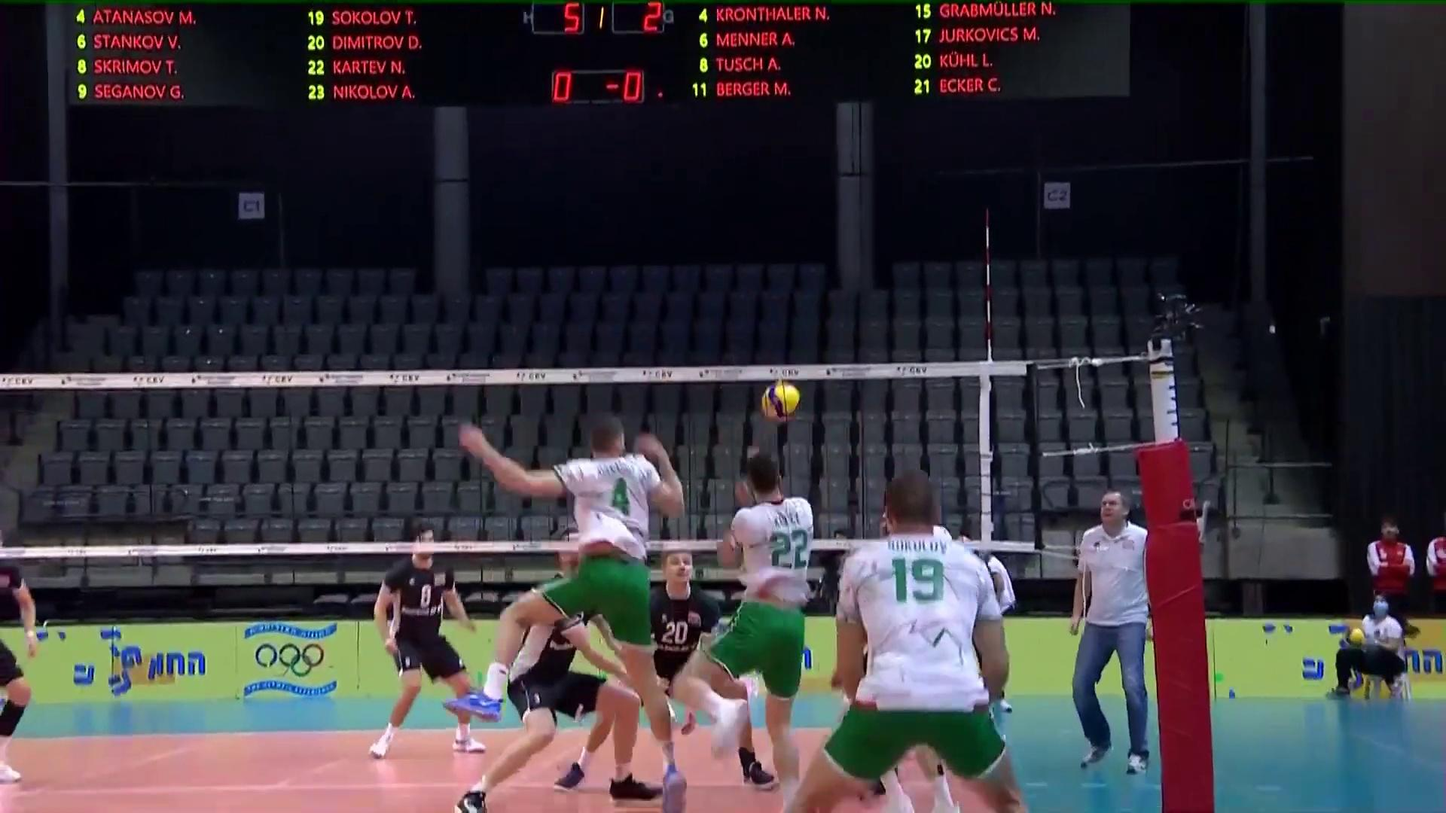ball: (760, 380, 803, 422)
